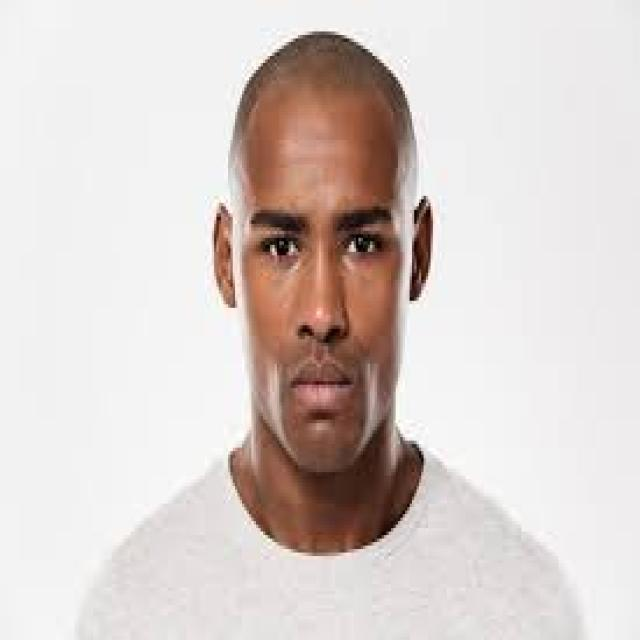human: (74, 21, 589, 640)
